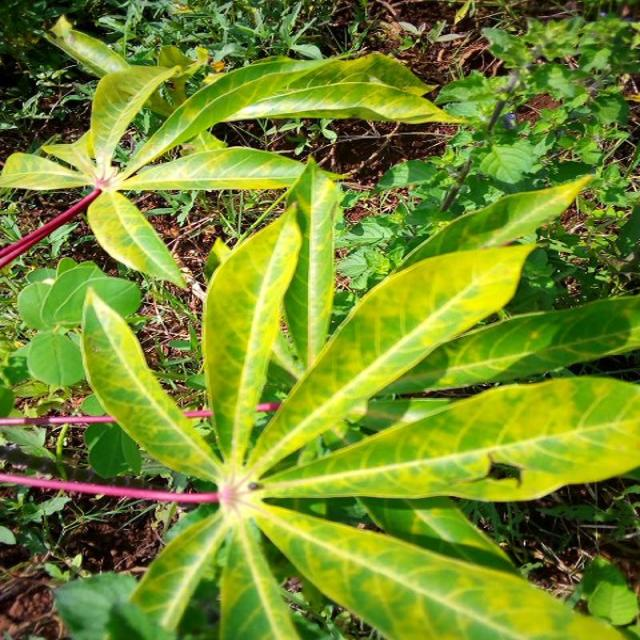cassava leaf: (68, 157, 638, 638), (245, 240, 543, 479)
